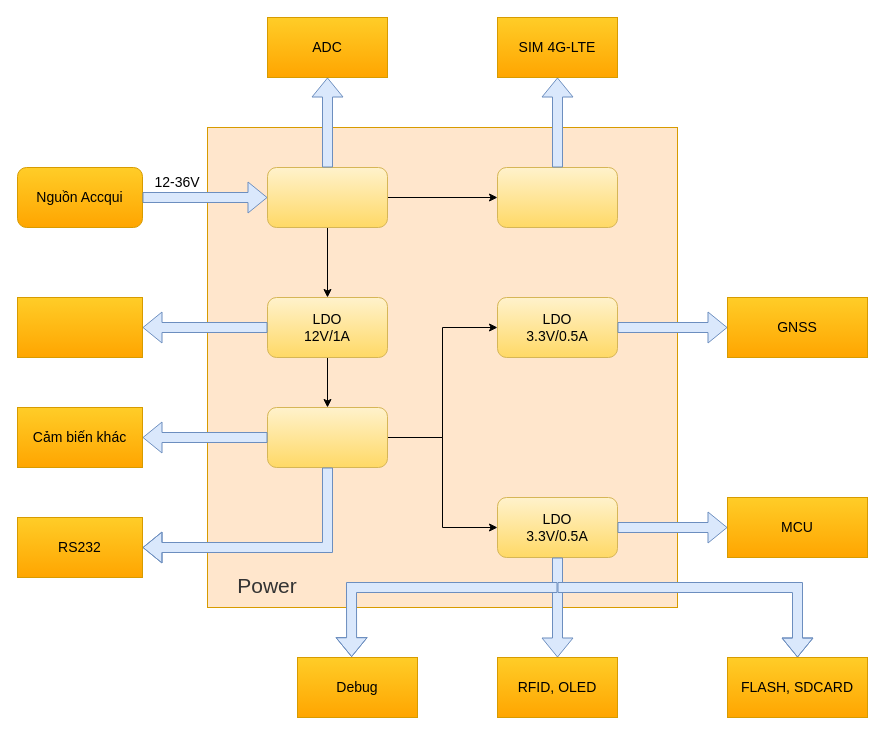
Image size: 885x735. Some labels were removed from this diagram. The box of each missing label's shape, as (x1, y1, x2, y2) in pixels:
Cảm biến tiệm cận: (16, 296, 142, 358)
LDO 5V/1.5A: (266, 406, 388, 468)
Mạch Buck 3.8V/3.5A: (496, 166, 618, 228)
Mạch lọc và bảo vệ: (266, 166, 388, 228)
